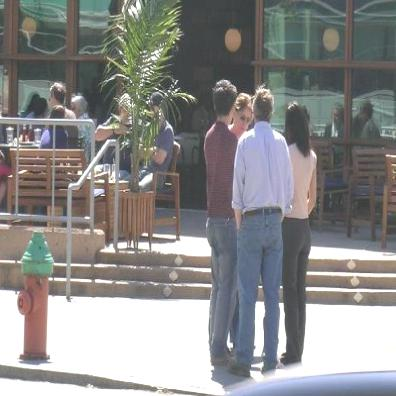ped: (230, 89, 294, 378), (207, 80, 240, 366), (283, 104, 318, 364)
